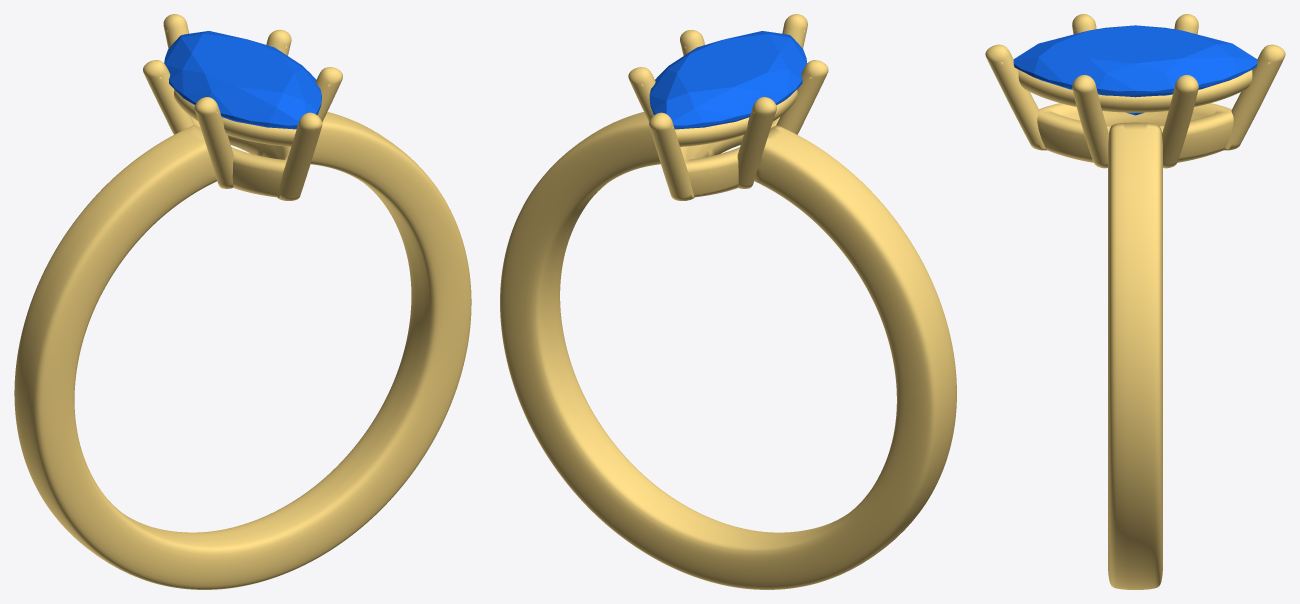
File: bluesapphire-marquise-yellowgold-6prong-straightband-nosidestones.glb
3 views of the same model, side by side, from view 1: azimuth 30°, elevation 25°; view 2: azimuth 150°, elevation 25°; view 3: azimuth 270°, elevation 25° (orthographic).
Parts seen in each view (by area): view 1: metal.001, stone; view 2: metal.001, stone; view 3: metal.001, stone.
Boxes of the visible parts, box(x1,y1,x2,y2) form: metal.001: box(14, 14, 471, 589); stone: box(164, 31, 321, 129); metal.001: box(500, 14, 956, 589); stone: box(649, 31, 807, 129); metal.001: box(985, 14, 1285, 589); stone: box(1013, 25, 1257, 115).
Size of the model in its own units: 20.5 by 22.94 by 11.96.
